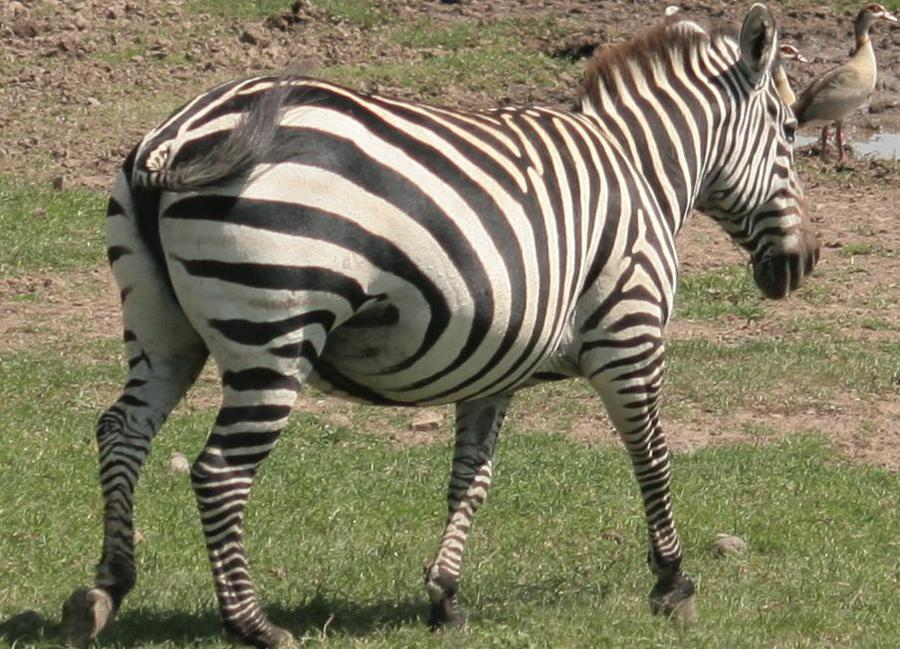zebra_plains: (140, 6, 750, 483)
